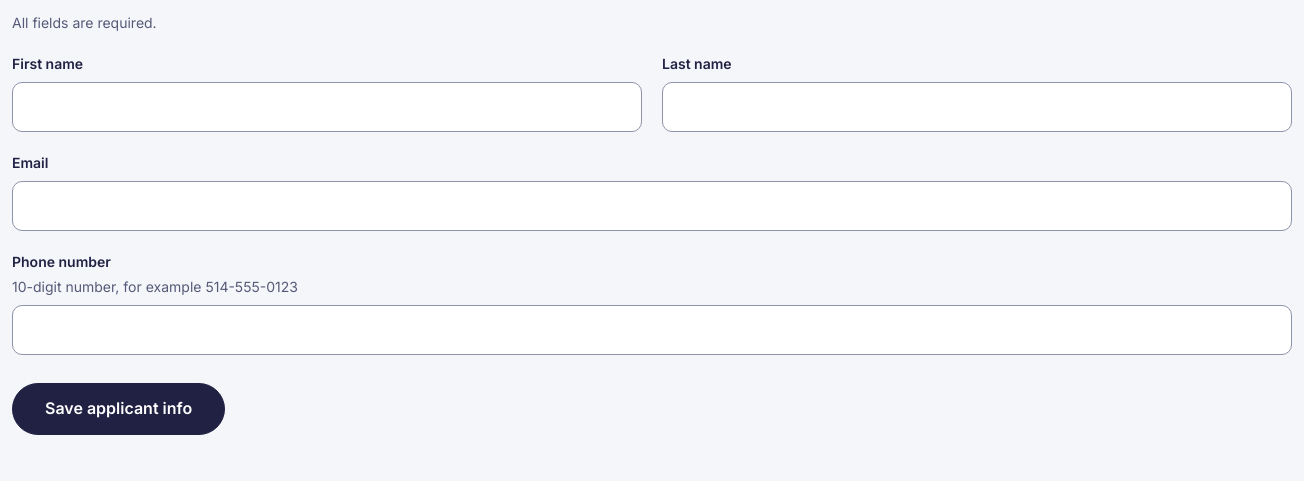
Test: ApplicantForm › validates a field when the user leaves it
Type "jane@" into the field labelled "Email" at (652, 206), box [12,181,1292,231]
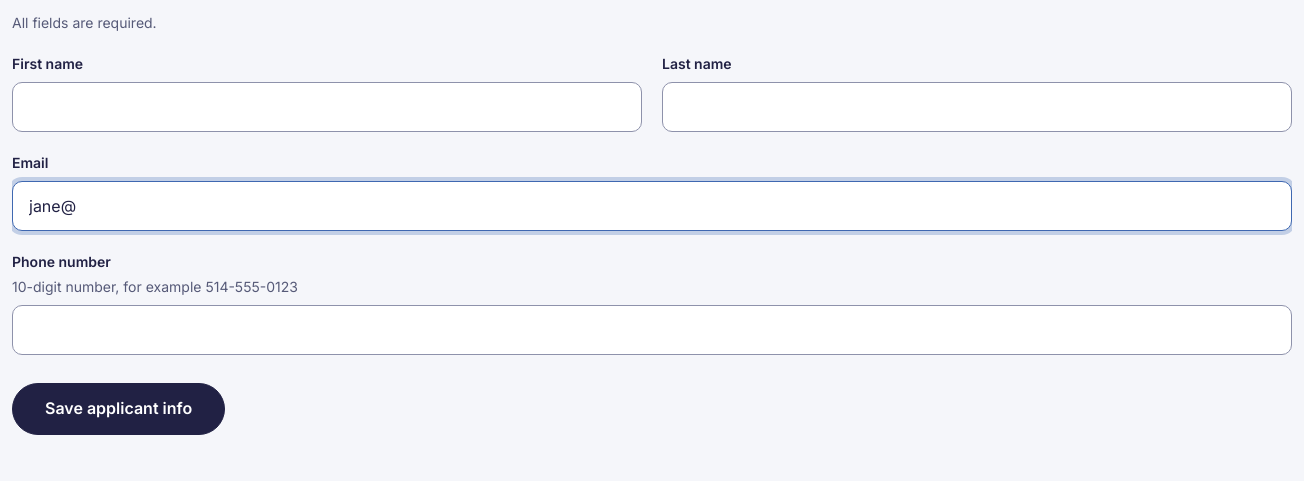
Press Tab
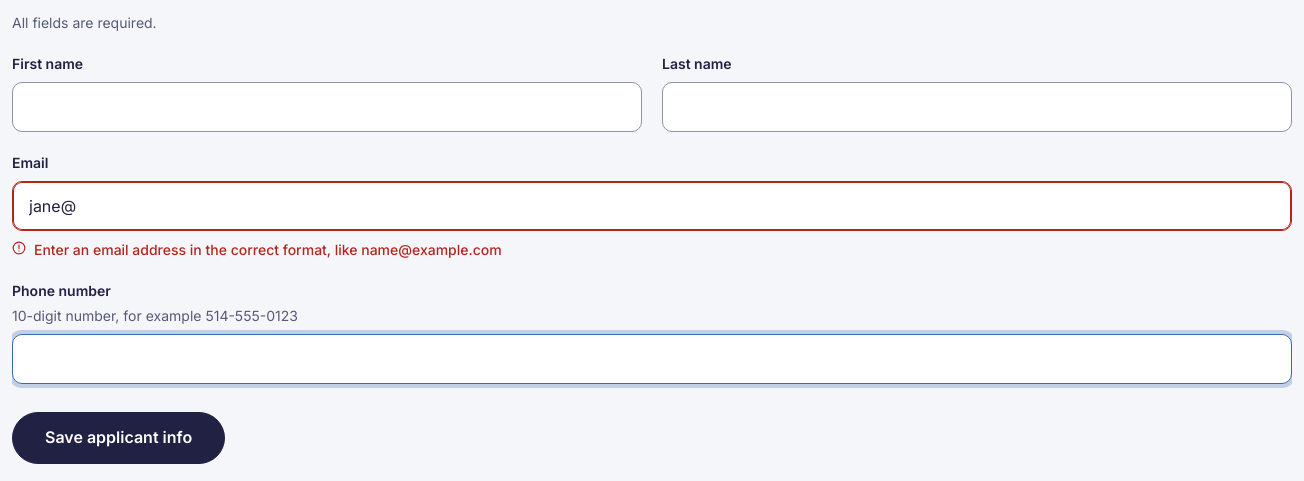
Now the text "Enter an email address in the correct format, like name@example.com" is shown, box [34,239,502,260]
